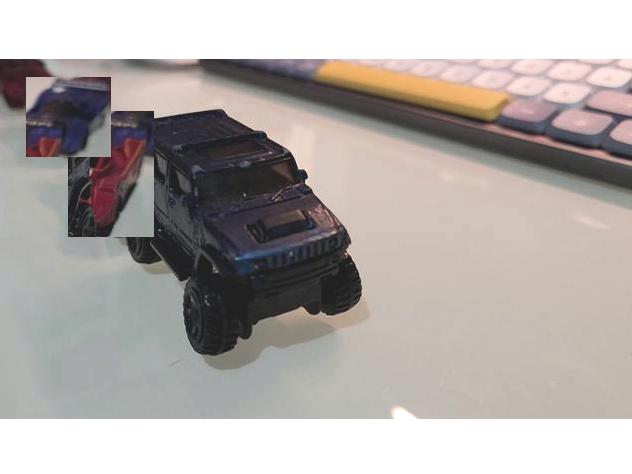toy-car: (125, 107, 363, 357), (68, 111, 154, 237), (26, 78, 111, 158), (0, 60, 62, 109)
